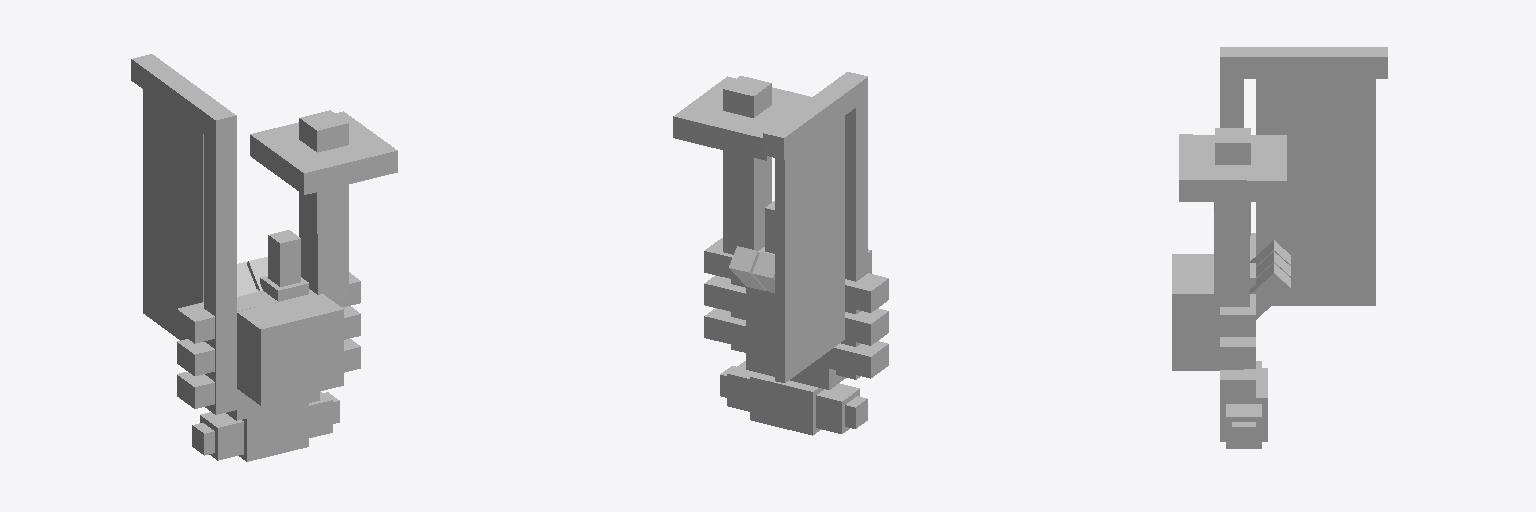
The model's file is powerpack.obj.
The picture shows the model from 3 angles: view 1: azimuth 30°, elevation 25°; view 2: azimuth 150°, elevation 25°; view 3: azimuth 270°, elevation 25°; orthographic projection.
Visible parts, largest first — view 1: tesla_coil, chest, banner_post, base, big_banner, banner, induction, antenna, induction_tubes; view 2: big_banner, tesla_coil, base, banner_post, induction, banner, induction_tubes; view 3: banner, tesla_coil, banner_post, chest, big_banner, induction, base, induction_tubes.
Boxes of the visible parts, box(x1,y1,x2,y2) form: tesla_coil: box(250, 110, 397, 301); chest: box(237, 293, 343, 405); banner_post: box(131, 54, 236, 327); base: box(192, 289, 340, 461); big_banner: box(143, 90, 203, 319); banner: box(143, 99, 203, 340); induction: box(177, 272, 360, 408); antenna: box(260, 230, 308, 301); induction_tubes: box(237, 257, 267, 296); big_banner: box(775, 116, 844, 372); tesla_coil: box(673, 76, 811, 254); base: box(720, 279, 867, 435); banner_post: box(763, 72, 867, 281); induction: box(704, 238, 888, 378); banner: box(775, 122, 844, 382); induction_tubes: box(729, 246, 774, 292); banner: box(1256, 87, 1375, 305); tesla_coil: box(1179, 128, 1286, 317); banner_post: box(1220, 47, 1387, 127); chest: box(1172, 254, 1219, 370); big_banner: box(1256, 79, 1375, 291); induction: box(1220, 233, 1255, 401); base: box(1220, 254, 1267, 448); induction_tubes: box(1250, 240, 1290, 319).
Size of the model in its own units: 1.09 by 2 by 1.13.